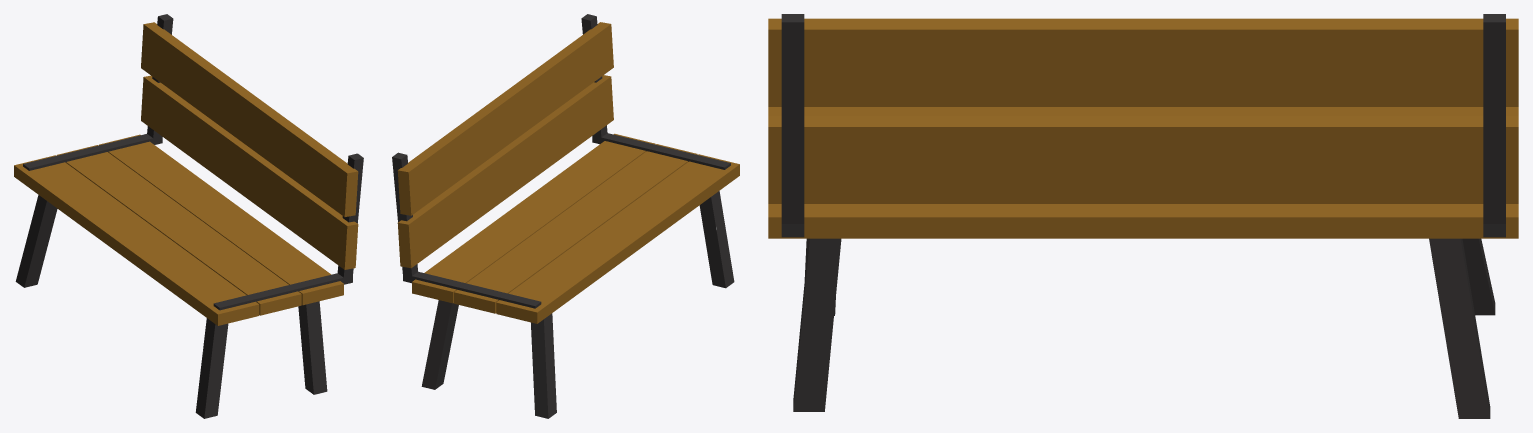
File: Bench.fbx
3 renders of one model, left to right at view 1: azimuth 30°, elevation 25°; view 2: azimuth 150°, elevation 25°; view 3: azimuth 270°, elevation 25°, orthographic. The views are drawn at different scales.
Parts seen in each view (by area): view 1: pCube45; view 2: pCube45; view 3: pCube45.
Boxes of the visible parts, box(x1,y1,x2,y2) form: pCube45: box(14, 14, 363, 418); pCube45: box(392, 14, 739, 418); pCube45: box(768, 14, 1518, 418).
Size of the model in its own units: 0.868 by 1.22 by 1.98.
